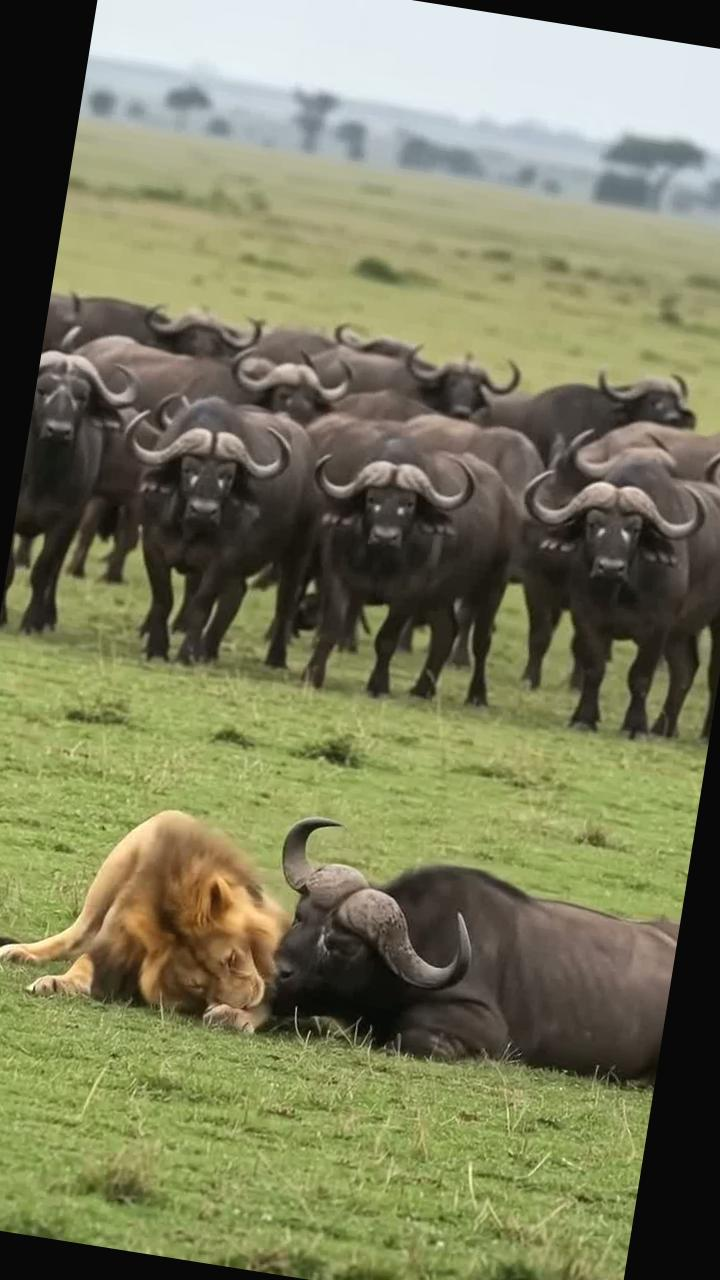Buffalo: (0, 236, 720, 755), (249, 779, 680, 1135)
lions: (0, 769, 294, 1077)
